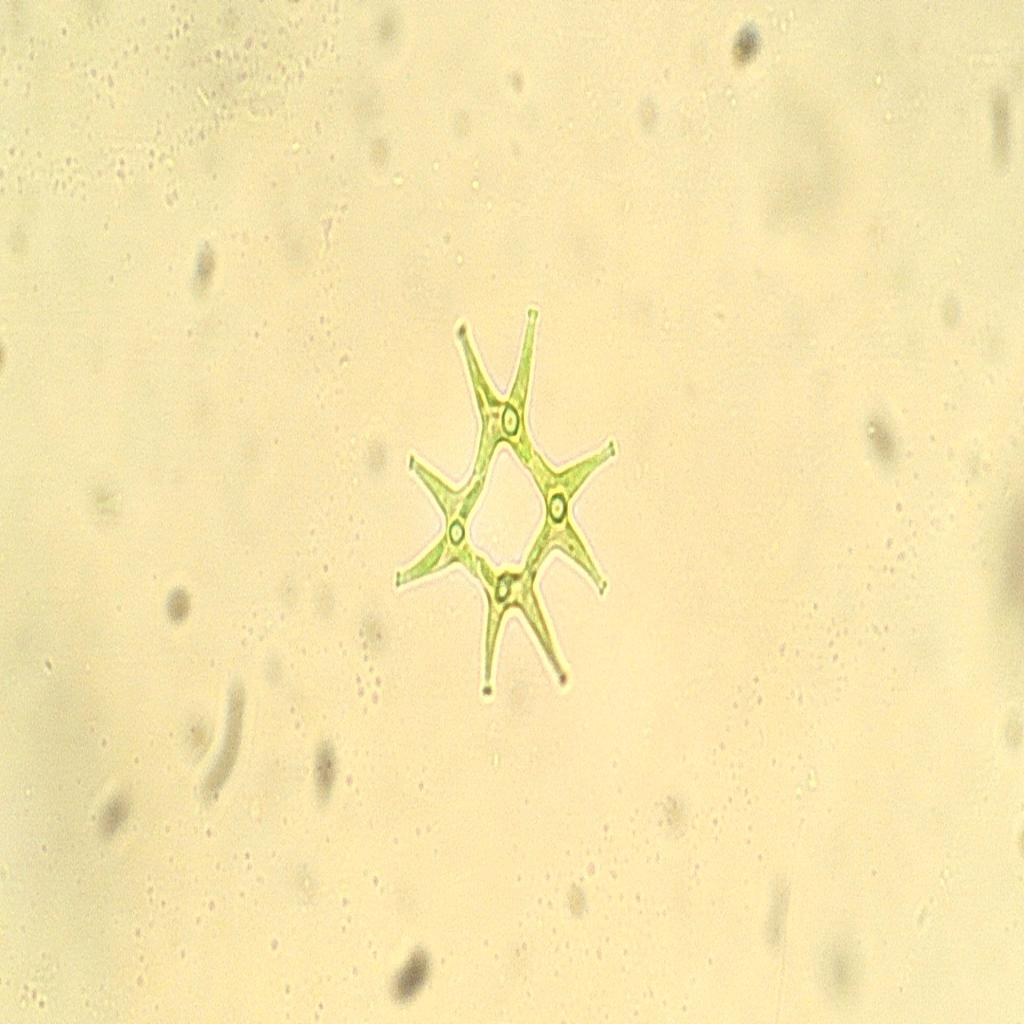Pediastrum_75O: (378, 279, 632, 731)
